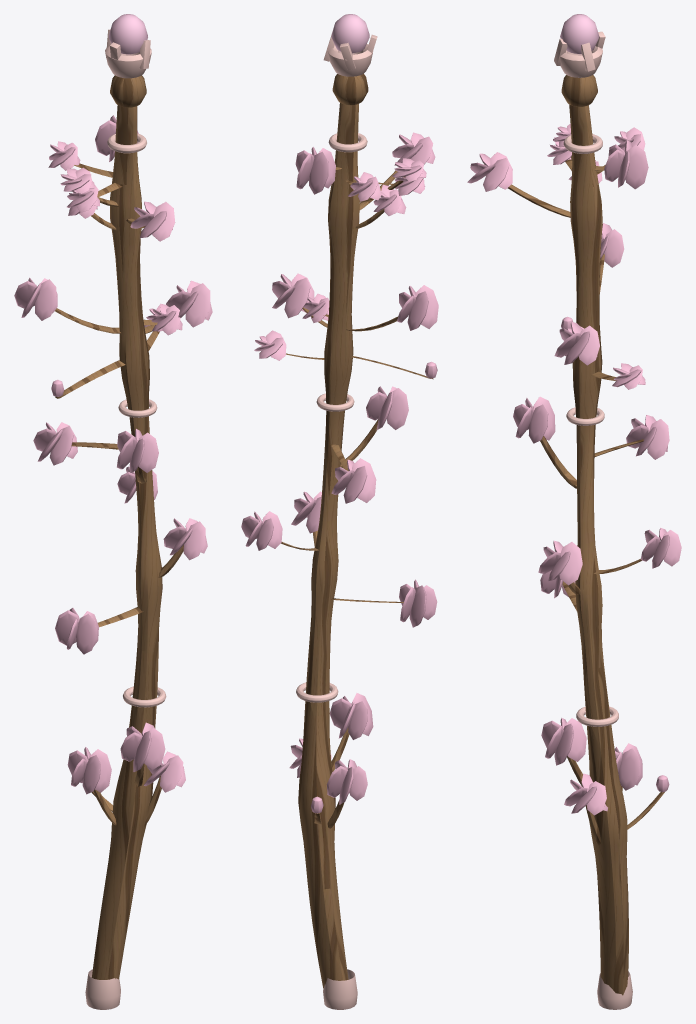
File: wand.glb
3 renders of one model, left to right at view 1: azimuth 30°, elevation 25°; view 2: azimuth 150°, elevation 25°; view 3: azimuth 270°, elevation 25°, orthographic. The views are drawn at different scales.
Visible parts, largest first — view 1: wand; view 2: wand; view 3: wand.
Part boxes in pixels (x1,y1,x2,y2): wand: (14,14,212,1009); wand: (241,14,438,1009); wand: (467,14,681,1009).
Size of the model in its own units: 0.3318 by 1.78 by 0.3484.
5 materials, 1 textured.
